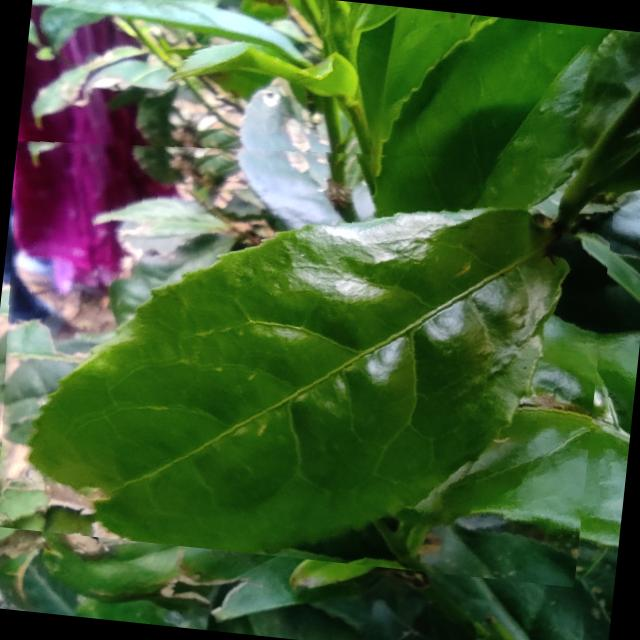Category C(4-7 days): (0, 101, 618, 587)
